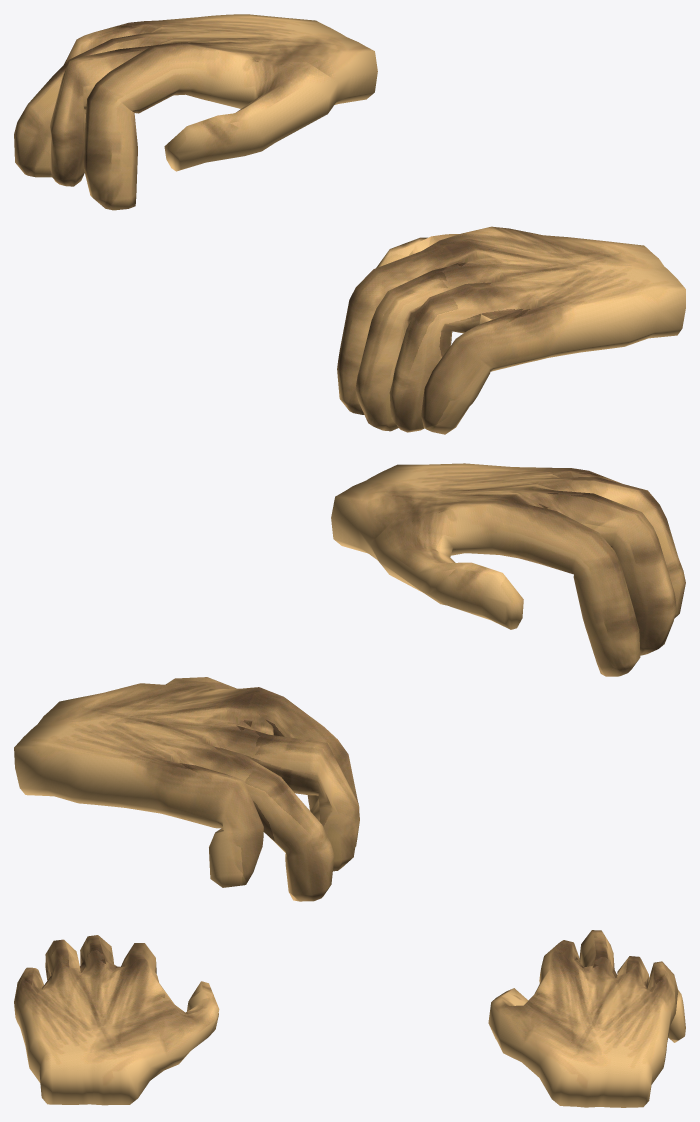
The model's file is hands_on table1.glb.
The picture shows the model from 3 angles, top to bottom: view 1: azimuth 30°, elevation 25°; view 2: azimuth 150°, elevation 25°; view 3: azimuth 270°, elevation 25°; orthographic projection. The views are drawn at different scales.
Parts seen in each view (by area): view 1: Plane_012, Plane_011; view 2: Plane_011, Plane_012; view 3: Plane_012, Plane_011.
Part boxes in pixels (x1,y1,x2,y2): Plane_012: (337, 226, 685, 434); Plane_011: (14, 14, 377, 210); Plane_011: (14, 677, 359, 901); Plane_012: (331, 463, 685, 676); Plane_012: (14, 935, 219, 1105); Plane_011: (488, 930, 685, 1107).
Bounding box in the file's own units: 2.59 × 1.27 × 5.99.
1 material, 1 textured.
